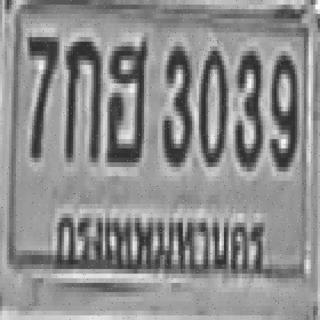A01: (64, 37, 98, 158)
A44: (105, 37, 146, 162)
N00: (198, 46, 225, 162)
N03: (160, 42, 190, 162), (233, 49, 260, 165)
N07: (27, 32, 57, 158)
N09: (268, 51, 296, 167)
P04: (45, 193, 274, 292)
